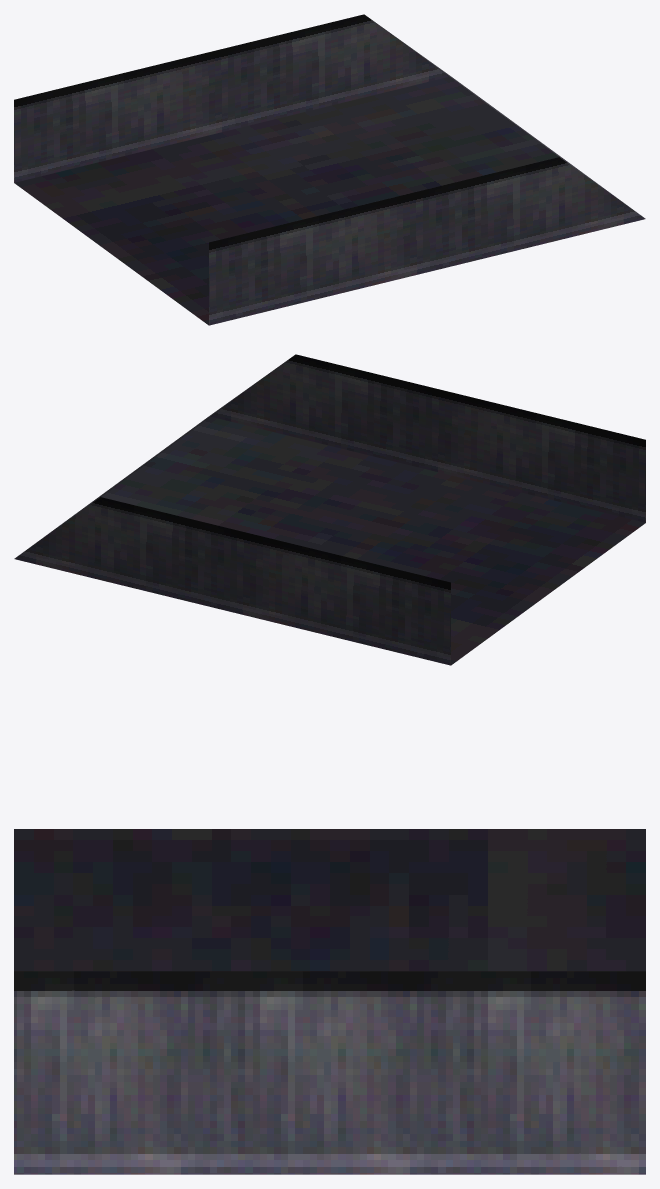
The model's file is primary_096.glb.
3 views of the same model, one above another, from view 1: azimuth 30°, elevation 25°; view 2: azimuth 150°, elevation 25°; view 3: azimuth 270°, elevation 25° (orthographic). The views are drawn at different scales.
Parts seen in each view (by area): view 1: Object; view 2: Object; view 3: Object.
Boxes of the visible parts, <box> form: Object: <box>14,14,645,325</box>; Object: <box>14,354,645,665</box>; Object: <box>14,829,645,1174</box>.
Bounding box in the file's own units: 0.7048 × 0.1281 × 0.5446.
4 materials, 4 textured.
